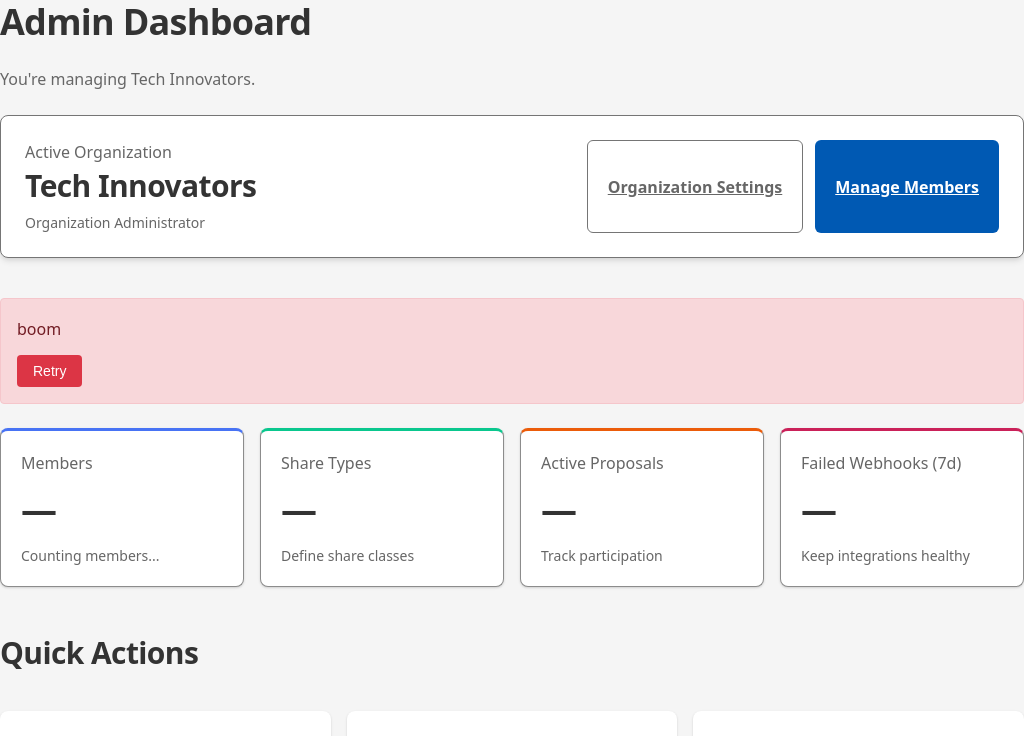
Test: AdminDashboardPage › shows error and retries when dashboard data fails to load
The width and height of the screenshot is (1024, 736).
Expected: the text "boom" is shown, [17,318,61,340]
Click the button "Retry" at (50, 371), box [17,355,82,387]
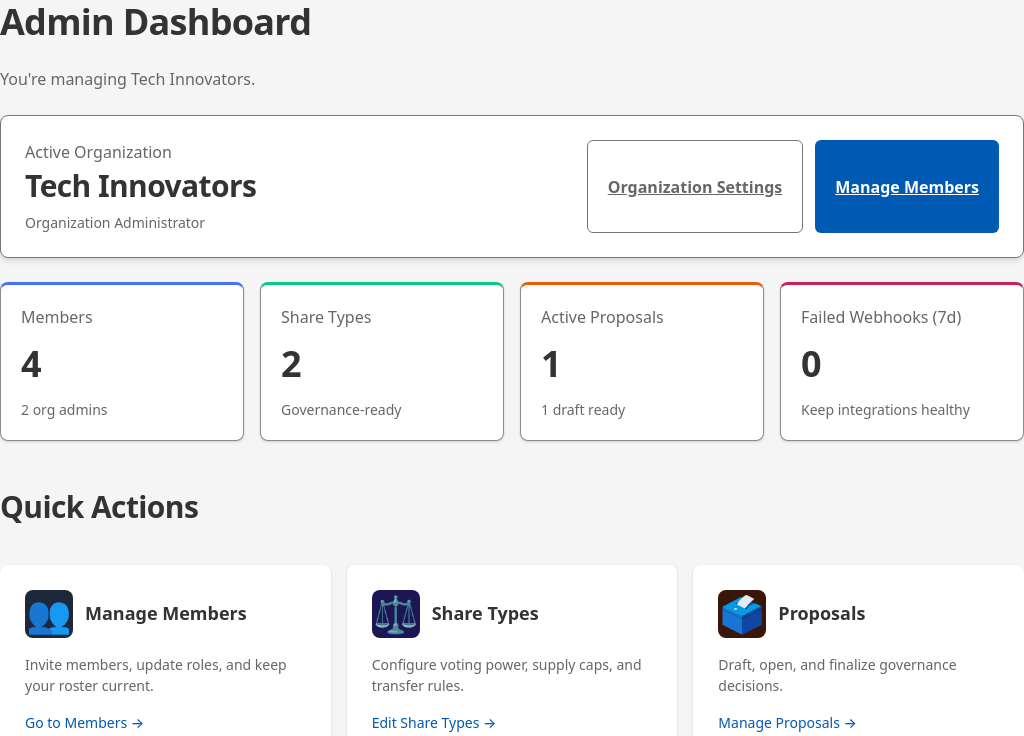
Expected: the element with test id "members-stat-card" shows "4", [21,339,42,388]
